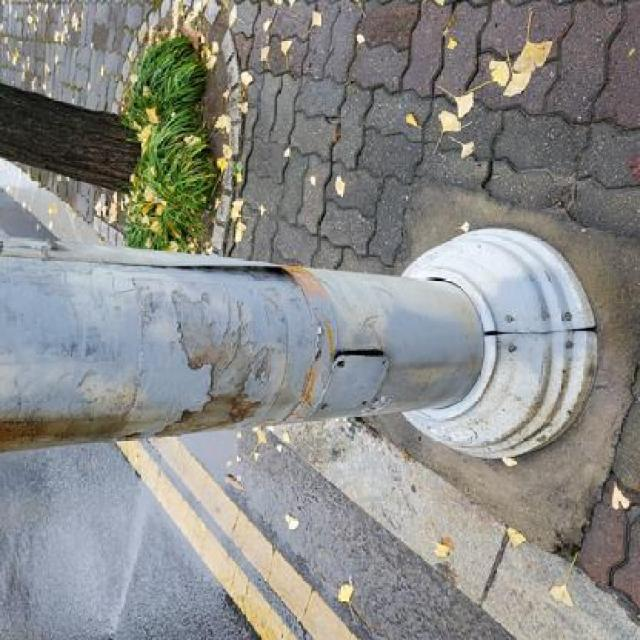pole: (0, 210, 612, 475)
